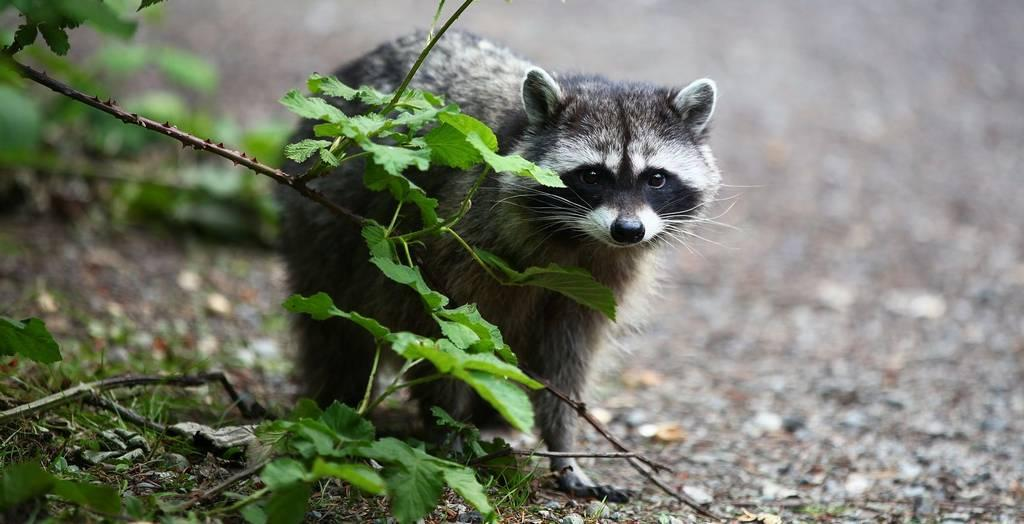raccoon: (279, 26, 719, 500)
